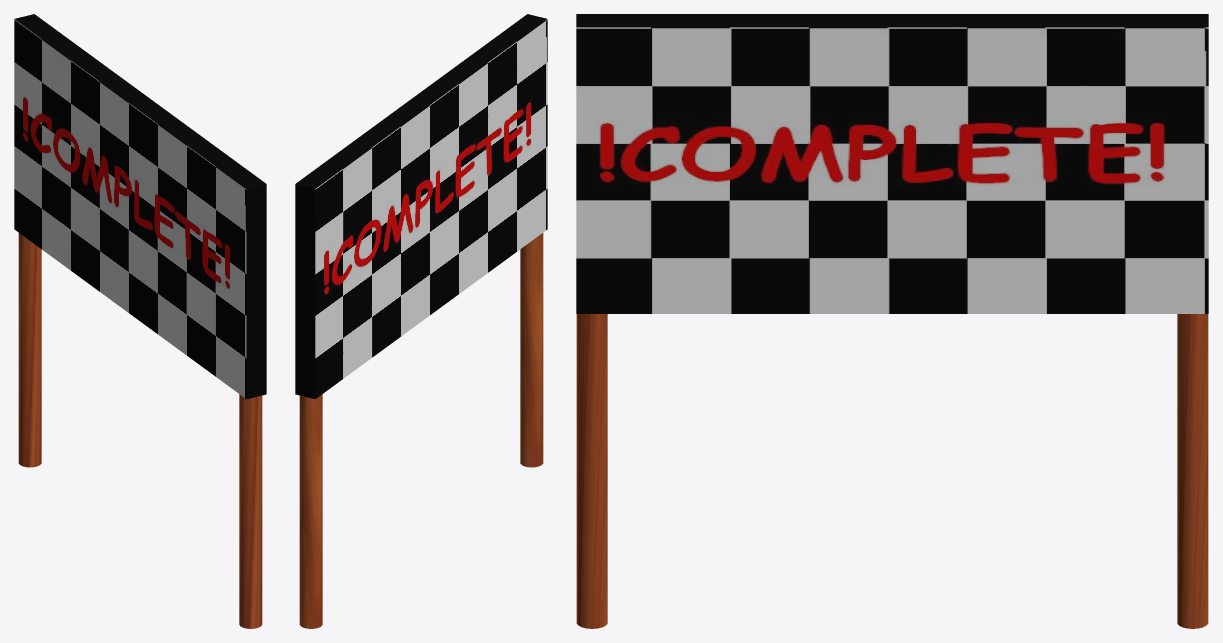
Rendered from Meta.FBX.
3 renders of one model, left to right at view 1: azimuth 30°, elevation 25°; view 2: azimuth 150°, elevation 25°; view 3: azimuth 270°, elevation 25°, orthographic. The views are drawn at different scales.
Parts seen in each view (by area): view 1: Box01, Cylinder02, Cylinder01; view 2: Box01, Cylinder01, Cylinder02; view 3: Box01, Cylinder01, Cylinder02.
Boxes of the visible parts, x1,y1,x2,y2 form: Box01: (14, 14, 266, 399); Cylinder02: (239, 394, 262, 628); Cylinder01: (18, 233, 41, 467); Box01: (295, 14, 547, 399); Cylinder01: (299, 394, 322, 628); Cylinder02: (520, 233, 543, 467); Box01: (576, 14, 1208, 313); Cylinder01: (1177, 314, 1208, 628); Cylinder02: (576, 314, 607, 628).
Bounding box in the file's own units: 1 × 21 × 20.
2 materials, 2 textured.
